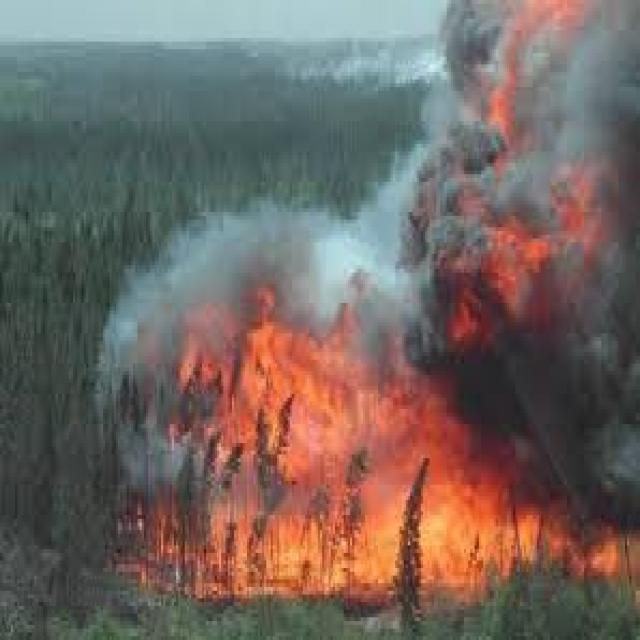Smoke: (102, 0, 640, 583)
